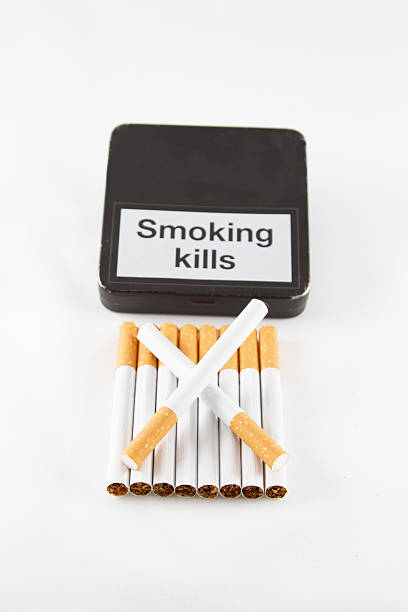cigarette: (117, 294, 271, 471), (133, 320, 289, 473), (105, 321, 140, 496), (257, 324, 287, 501), (173, 322, 200, 497), (195, 323, 220, 499), (152, 322, 177, 497), (240, 326, 265, 500), (130, 342, 157, 496), (219, 349, 243, 500)
